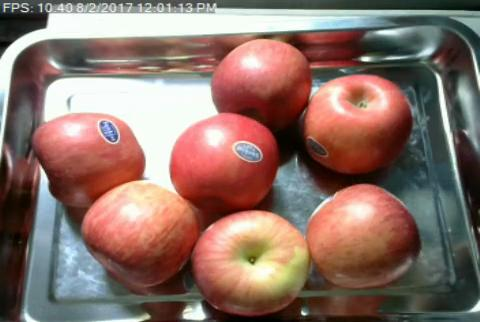apple: (307, 181, 421, 287), (82, 181, 198, 285), (194, 211, 311, 314), (29, 112, 147, 207), (301, 74, 411, 173), (170, 113, 278, 211), (211, 38, 311, 127)
